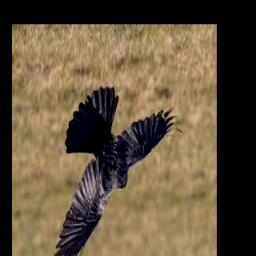Crow: (47, 88, 182, 256)
